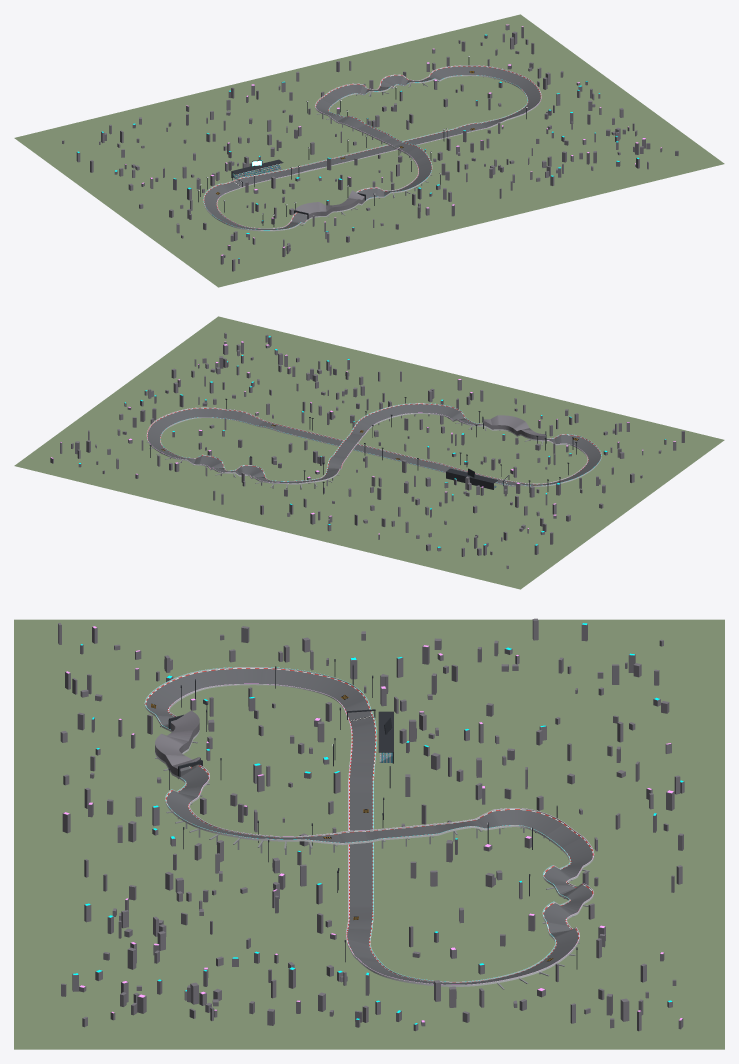
The model's file is race_grand.glb.
3 views of the same model, one above another, from view 1: azimuth 30°, elevation 25°; view 2: azimuth 150°, elevation 25°; view 3: azimuth 270°, elevation 25° (orthographic). The views are drawn at different scales.
Parts seen in each view (by area): view 1: Ground, Scenery, Road, Barriers, Tunnel, Kerbs, SceneryLamps; view 2: Ground, Scenery, Road, Barriers, Tunnel, Kerbs; view 3: Ground, Scenery, Road, Barriers, Kerbs, Tunnel, SceneryLamps, BarrierLights, Pillars.
Boxes of the visible parts, x1=… form: Ground: x1=14, y1=14, x2=724, y2=287; Scenery: x1=62, y1=25, x2=678, y2=271; Road: x1=204, y1=66, x2=540, y2=229; Barriers: x1=203, y1=65, x2=541, y2=231; Tunnel: x1=294, y1=190, x2=365, y2=219; Kerbs: x1=203, y1=66, x2=541, y2=228; SceneryLamps: x1=77, y1=24, x2=661, y2=258; Ground: x1=14, y1=316, x2=724, y2=589; Scenery: x1=50, y1=332, x2=684, y2=568; Road: x1=147, y1=404, x2=600, y2=485; Barriers: x1=146, y1=403, x2=601, y2=486; Tunnel: x1=482, y1=415, x2=546, y2=443; Kerbs: x1=147, y1=403, x2=601, y2=484; Ground: x1=14, y1=619, x2=724, y2=1049; Scenery: x1=58, y1=618, x2=684, y2=1031; Road: x1=146, y1=669, x2=592, y2=984; Barriers: x1=144, y1=667, x2=594, y2=986; Kerbs: x1=145, y1=668, x2=593, y2=982; Tunnel: x1=155, y1=710, x2=202, y2=777; SceneryLamps: x1=63, y1=623, x2=683, y2=1024; BarrierLights: x1=145, y1=667, x2=593, y2=984; Pillars: x1=155, y1=726, x2=589, y2=989.
Bounding box in the file's own units: 996 × 25.01 × 696.
Materials: 28 (4 with a texture image).
